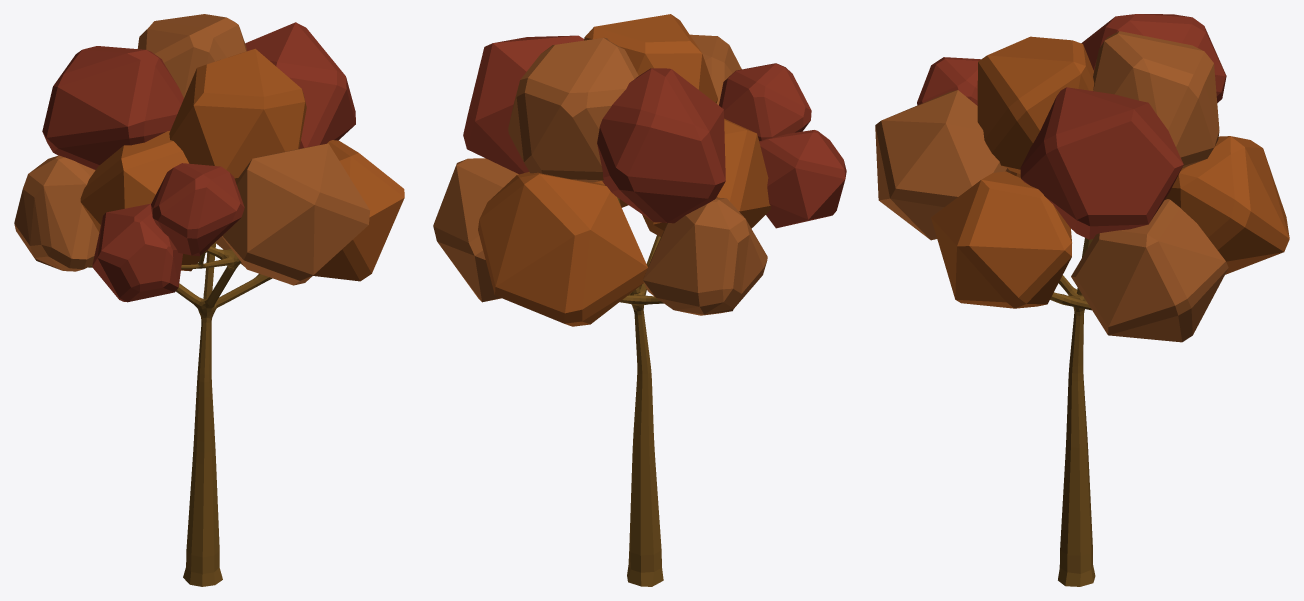
Rendered from tree-1.glb.
3 renders of one model, left to right at view 1: azimuth 30°, elevation 25°; view 2: azimuth 150°, elevation 25°; view 3: azimuth 270°, elevation 25°, orthographic. The views are drawn at different scales.
Visible parts, largest first — view 1: Tree 1; view 2: Tree 1; view 3: Tree 1.
Part boxes in pixels (<box>): Tree 1: <box>14,14,404,586</box>; Tree 1: <box>433,14,846,586</box>; Tree 1: <box>875,14,1289,586</box>.
Bounding box in the file's own units: 11.79 × 19.47 × 13.16.
